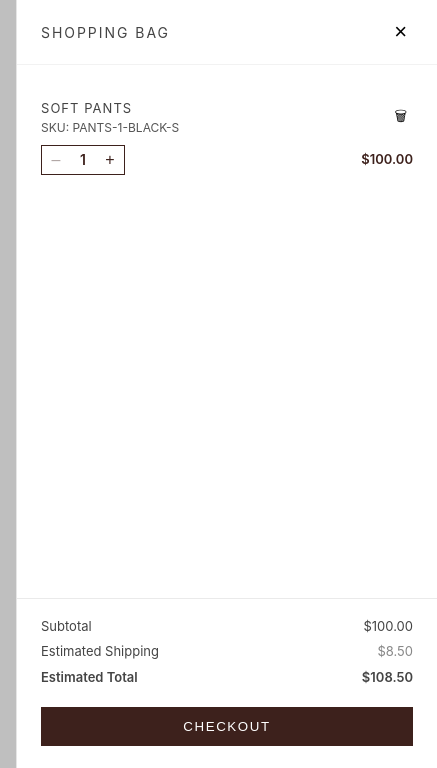
Test: Cart drawer › updates subtotal when quantity is increased
The image size is (437, 768).
Expected: the text "$100.00" in the row of "Subtotal" is shown, [364,618,413,634]
What coordinates should you click on to do the following:
click the button "+"
I would click on:
 (110, 160)
Its box is [96,146,124,174].
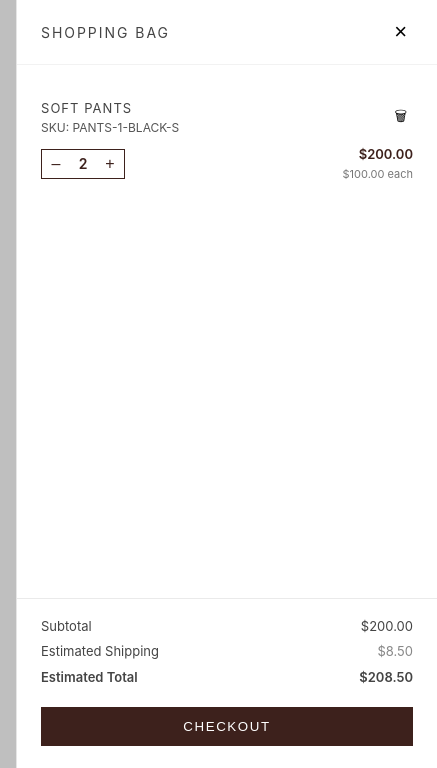
Expected: the text "$200.00" below "SKU: PANTS-1-BLACK-S" is shown, [359,146,413,162]
